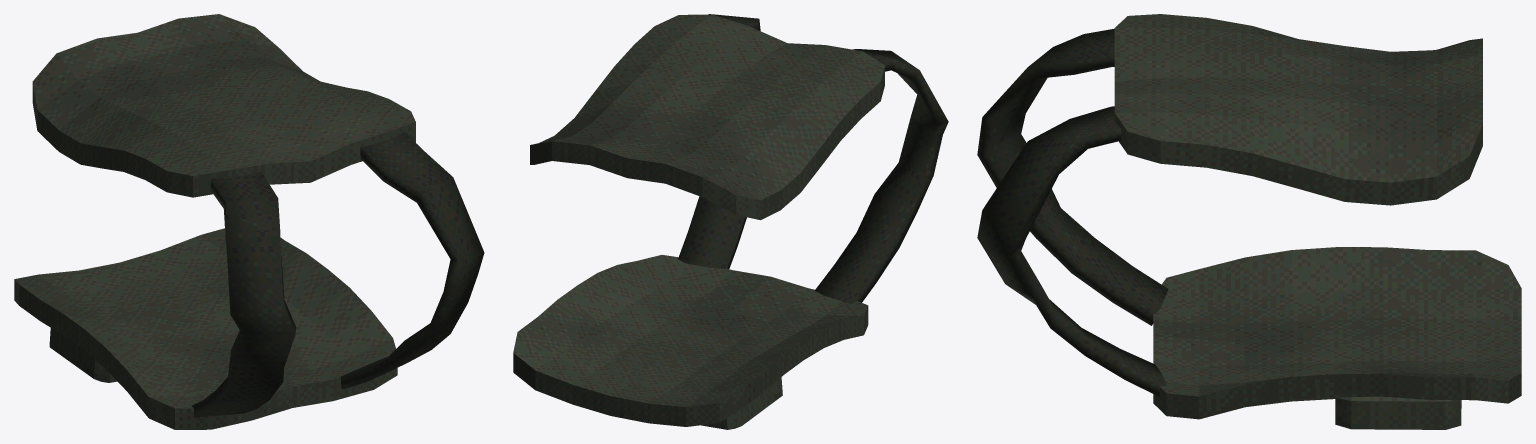
The model's file is armored_rig.glb.
The picture shows the model from 3 angles, left to right: view 1: azimuth 30°, elevation 25°; view 2: azimuth 150°, elevation 25°; view 3: azimuth 270°, elevation 25°; orthographic projection. The views are drawn at different scales.
Visible parts, largest first — view 1: armored_rig_ground; view 2: armored_rig_ground; view 3: armored_rig_ground.
Boxes of the visible parts, x1,y1,x2,y2 form: armored_rig_ground: (14,14,484,429); armored_rig_ground: (513,14,948,429); armored_rig_ground: (977,14,1521,429).
Size of the model in its own units: 0.3225 by 0.367 by 0.5615.
Materials: 1 (1 with a texture image).
